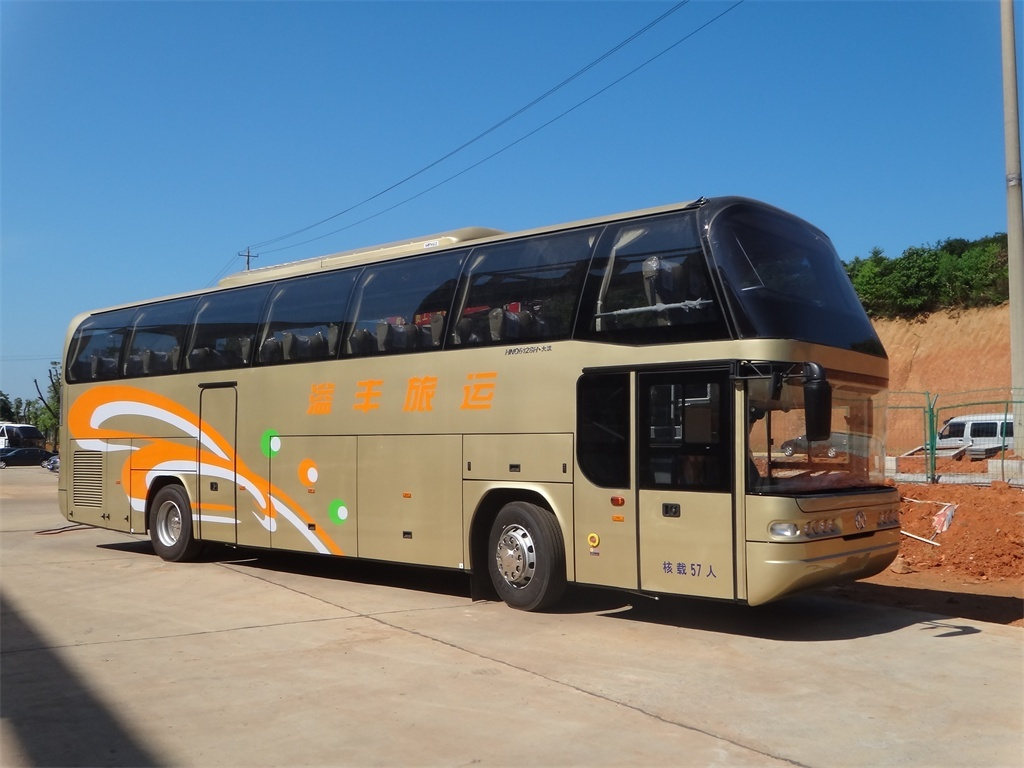bus: (47, 185, 912, 644)
